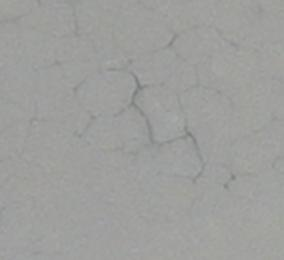fissura: (27, 8, 256, 194)
